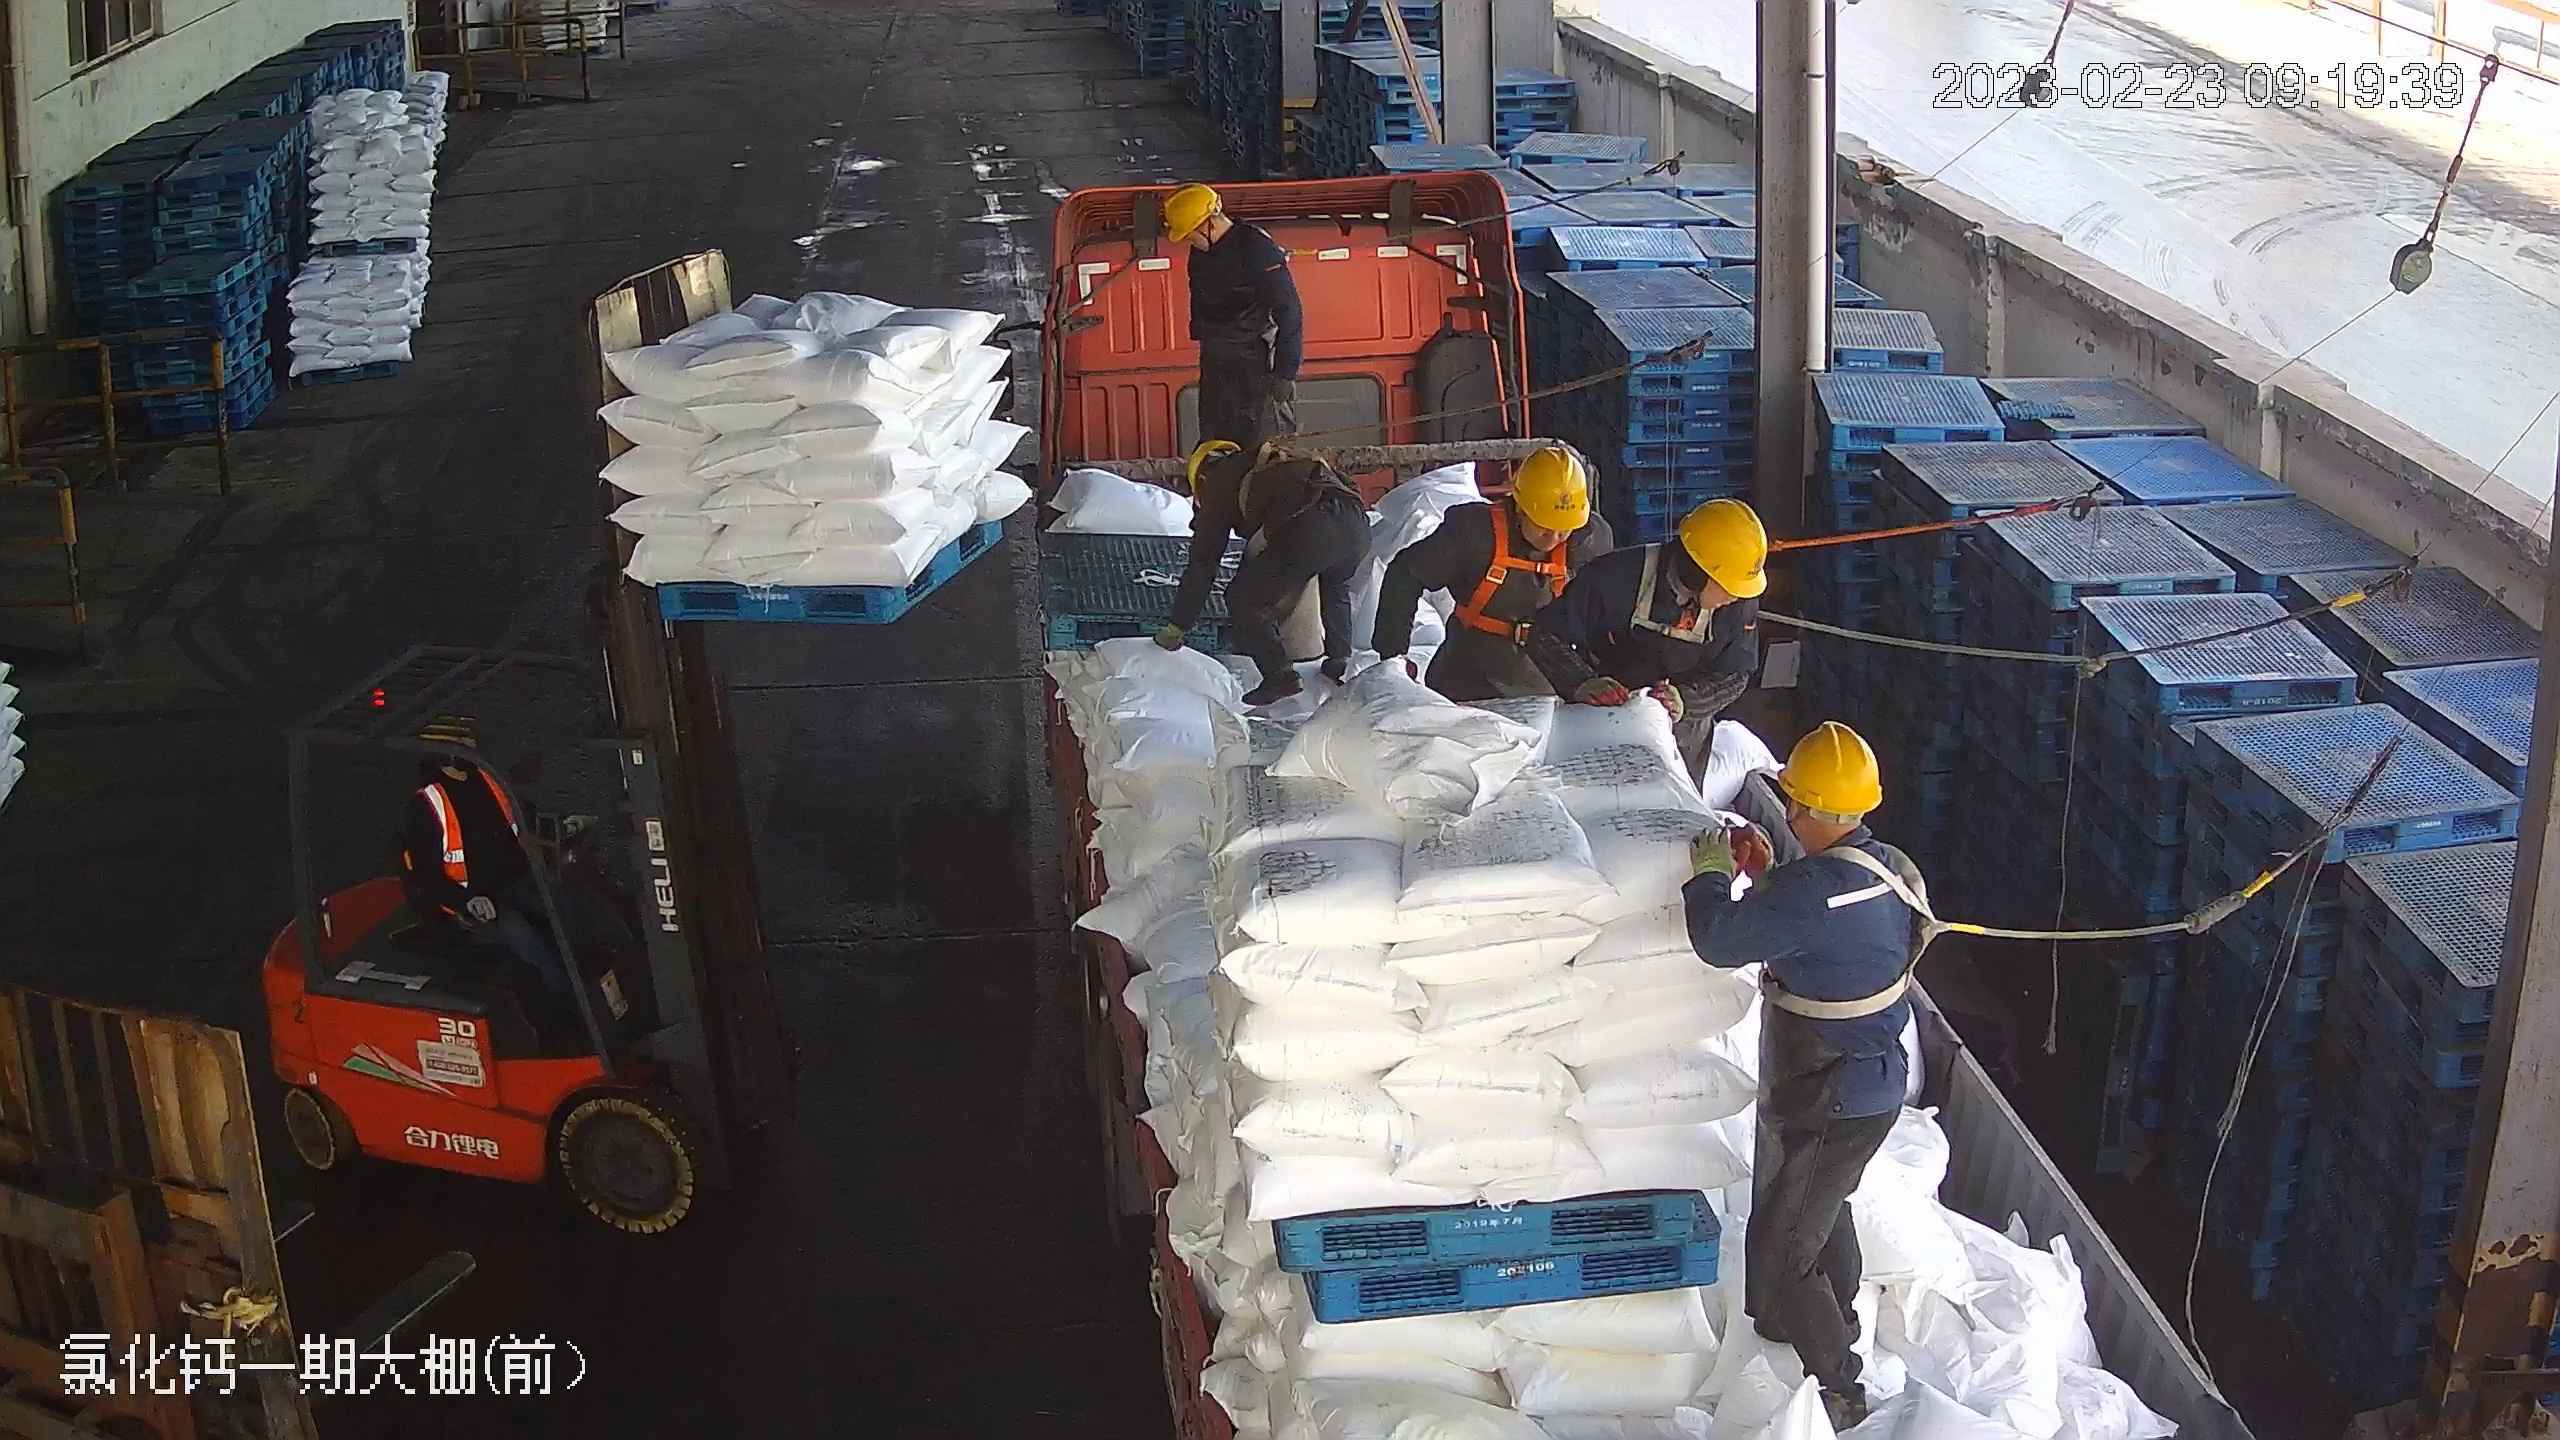belt: (1749, 830, 1997, 1023), (1454, 500, 1565, 635), (1628, 540, 1721, 644), (1226, 437, 1315, 515), (1253, 223, 1326, 274)
head: (1747, 720, 1923, 952), (1580, 498, 1764, 664), (1442, 443, 1597, 590), (1168, 187, 1280, 294), (1185, 434, 1289, 517)
helmet: (1777, 719, 1883, 813), (1676, 494, 1768, 598), (1509, 445, 1592, 532), (1162, 185, 1220, 241)
people: (1678, 717, 1926, 1429), (401, 716, 602, 1018), (1165, 434, 1372, 702), (1163, 186, 1304, 447)
truck: (995, 175, 2245, 1422)
